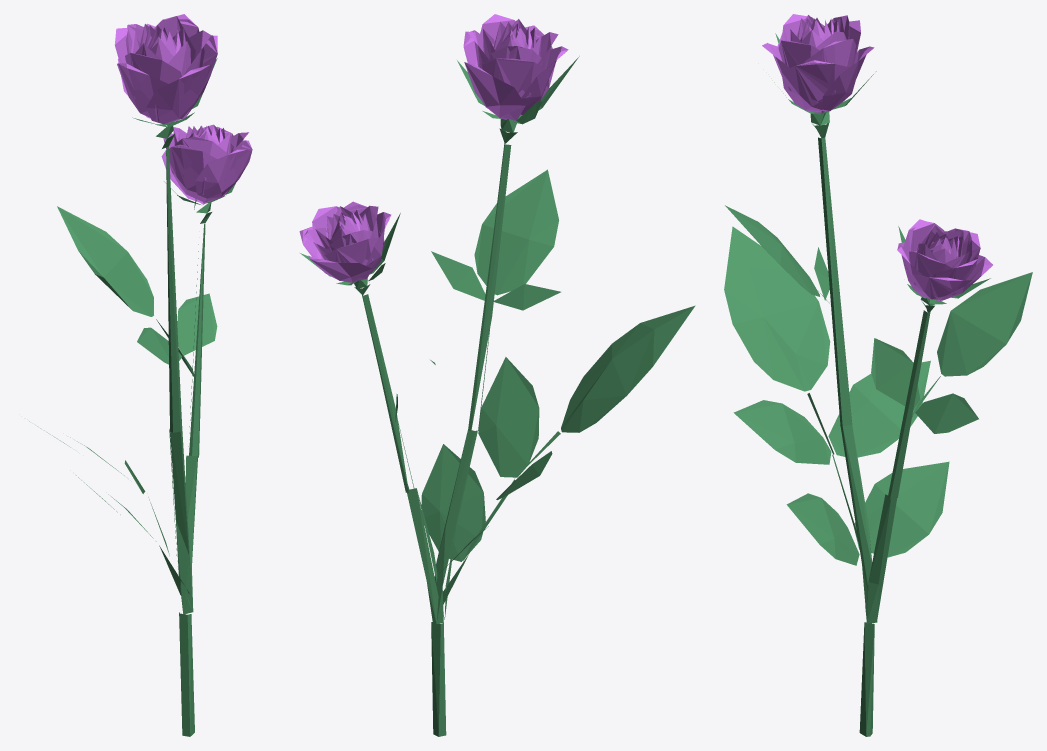
File: lowpoly_purple_rose.glb
The picture shows the model from 3 angles, left to right: view 1: azimuth 30°, elevation 25°; view 2: azimuth 150°, elevation 25°; view 3: azimuth 270°, elevation 25°; orthographic projection. The views are drawn at different scales.
Visible parts, largest first — view 1: object, Object001, Object002; view 2: object, Object001, Object002; view 3: object, Object001, Object002.
Boxes of the visible parts, box(x1,y1,x2,y2) form: object: box(29, 206, 217, 736); Object001: box(114, 14, 217, 432); Object002: box(161, 124, 252, 457); object: box(395, 169, 695, 736); Object001: box(457, 14, 579, 430); Object002: box(299, 201, 414, 492); object: box(724, 205, 1032, 736); Object001: box(762, 14, 876, 427); Object002: box(887, 219, 992, 499).
Bounding box in the file's own units: 374 × 877 × 355.
